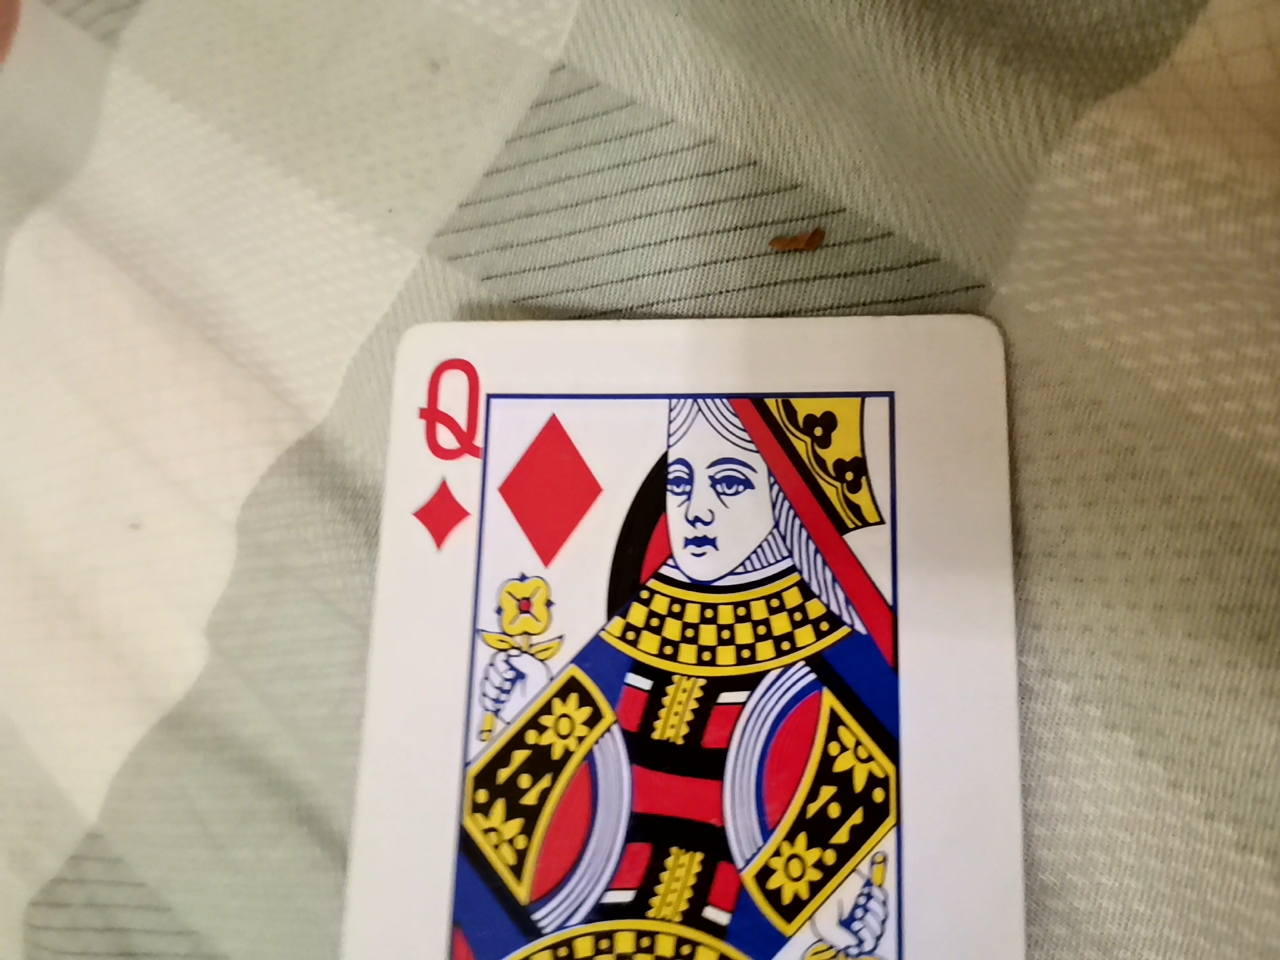fk q: (324, 313, 1030, 960)
